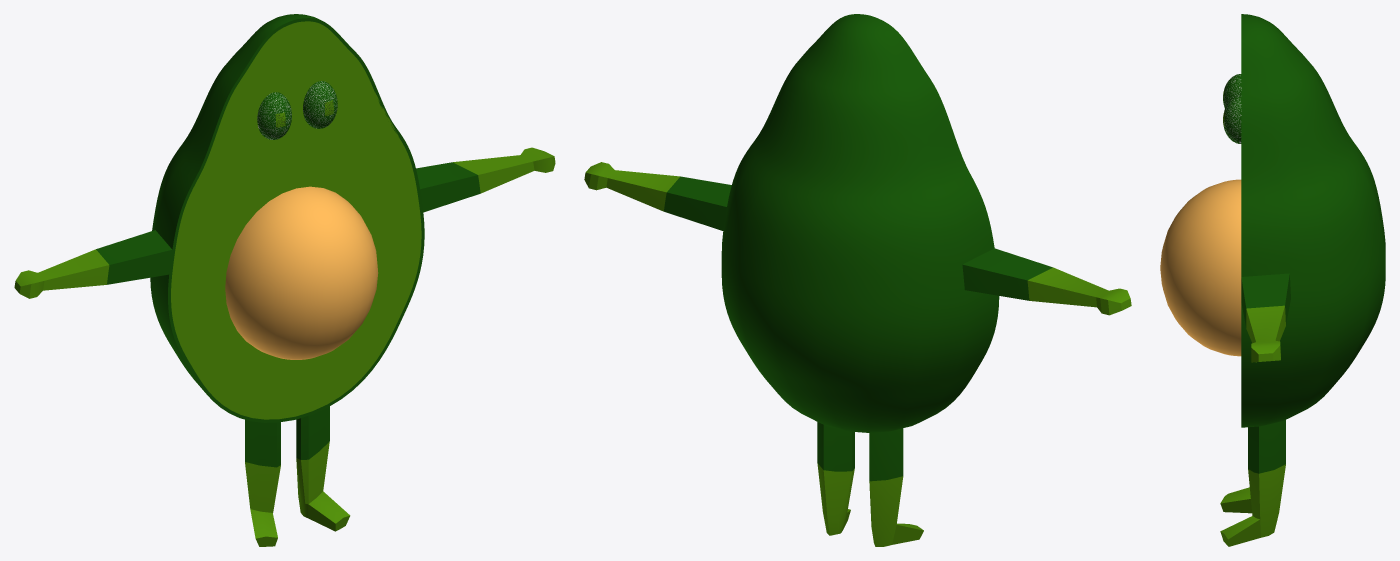
File: Aguacate_v1.fbx
3 views of the same model, side by side, from view 1: azimuth 30°, elevation 25°; view 2: azimuth 150°, elevation 25°; view 3: azimuth 270°, elevation 25° (orthographic). The views are drawn at different scales.
Visible parts, largest first — view 1: Aguacate-Mesh-v2, Hueso, Sphere.002; view 2: Aguacate-Mesh-v2; view 3: Aguacate-Mesh-v2, Hueso, Sphere.002.
Part boxes in pixels (x1,y1,x2,y2): Aguacate-Mesh-v2: [14, 14, 555, 546]; Hueso: [225, 186, 378, 359]; Sphere.002: [257, 81, 337, 139]; Aguacate-Mesh-v2: [584, 14, 1131, 546]; Aguacate-Mesh-v2: [1220, 14, 1385, 546]; Hueso: [1160, 179, 1241, 356]; Sphere.002: [1223, 74, 1241, 143].
Size of the model in its own units: 352 by 322 by 130.
